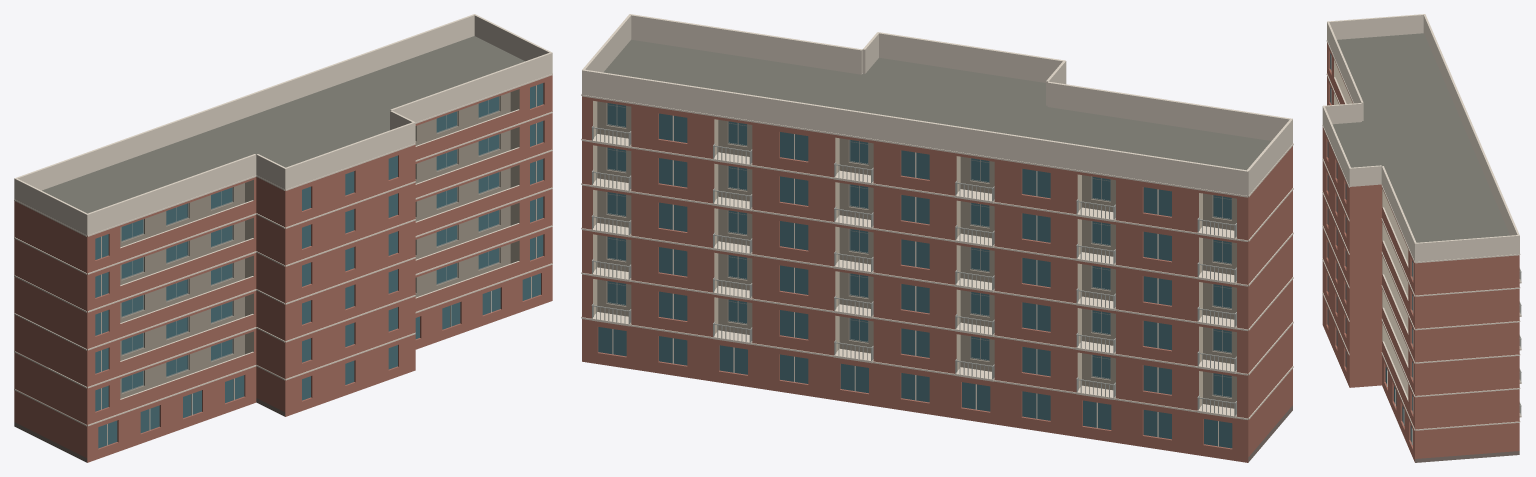
Rendered from chunk-dorm-way-759191482.glb.
3 renders of one model, left to right at view 1: azimuth 30°, elevation 25°; view 2: azimuth 150°, elevation 25°; view 3: azimuth 270°, elevation 25°, orthographic. The views are drawn at different scales.
Visible parts, largest first — view 1: chunk-dorm-way-759191482; view 2: chunk-dorm-way-759191482; view 3: chunk-dorm-way-759191482.
Boxes of the visible parts, bbox=[...] form: chunk-dorm-way-759191482: bbox=[14, 14, 552, 462]; chunk-dorm-way-759191482: bbox=[581, 14, 1293, 462]; chunk-dorm-way-759191482: bbox=[1322, 14, 1521, 462].
Size of the model in its own units: 48.6 by 21.6 by 17.81.
